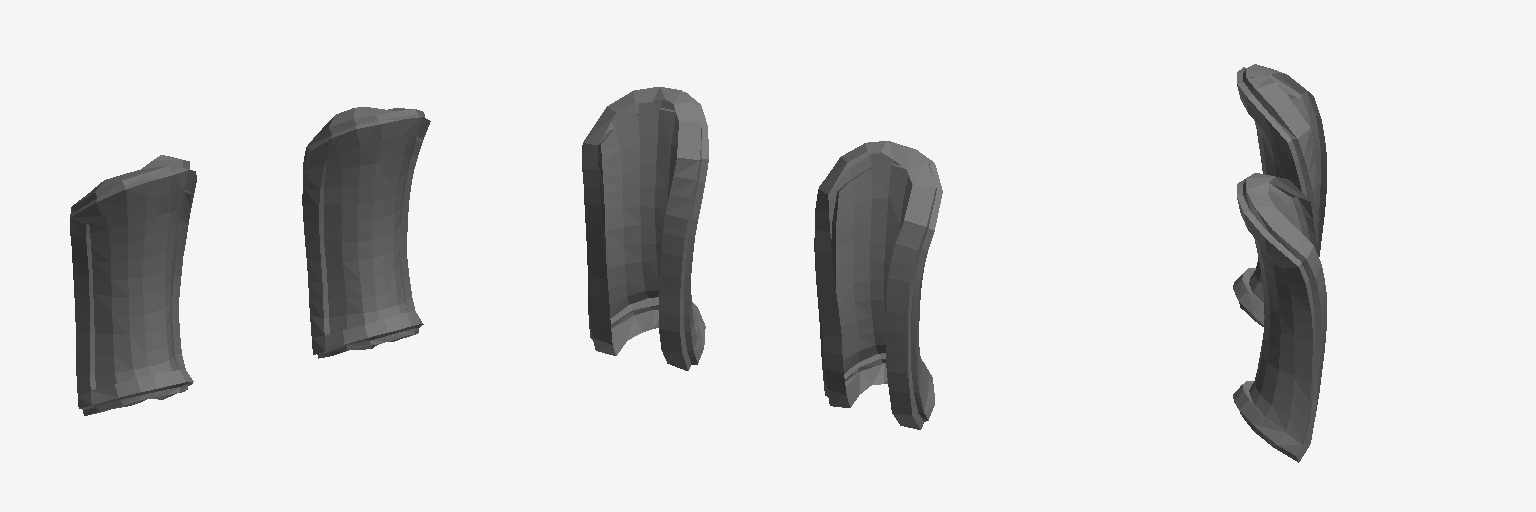
File: LowPoly_Apostador_BotasParte01.obj
3 views of the same model, side by side, from view 1: azimuth 30°, elevation 25°; view 2: azimuth 150°, elevation 25°; view 3: azimuth 270°, elevation 25° (orthographic).
Parts seen in each view (by area): view 1: LowPoly_Apostador_BotasParte01; view 2: LowPoly_Apostador_BotasParte01; view 3: LowPoly_Apostador_BotasParte01.
Part boxes in pixels (x1,y1,x2,y2): LowPoly_Apostador_BotasParte01: (70,107,430,415); LowPoly_Apostador_BotasParte01: (582,87,942,429); LowPoly_Apostador_BotasParte01: (1233,64,1326,462).
Bounding box in the file's own units: 29.63 × 20.58 × 6.89.